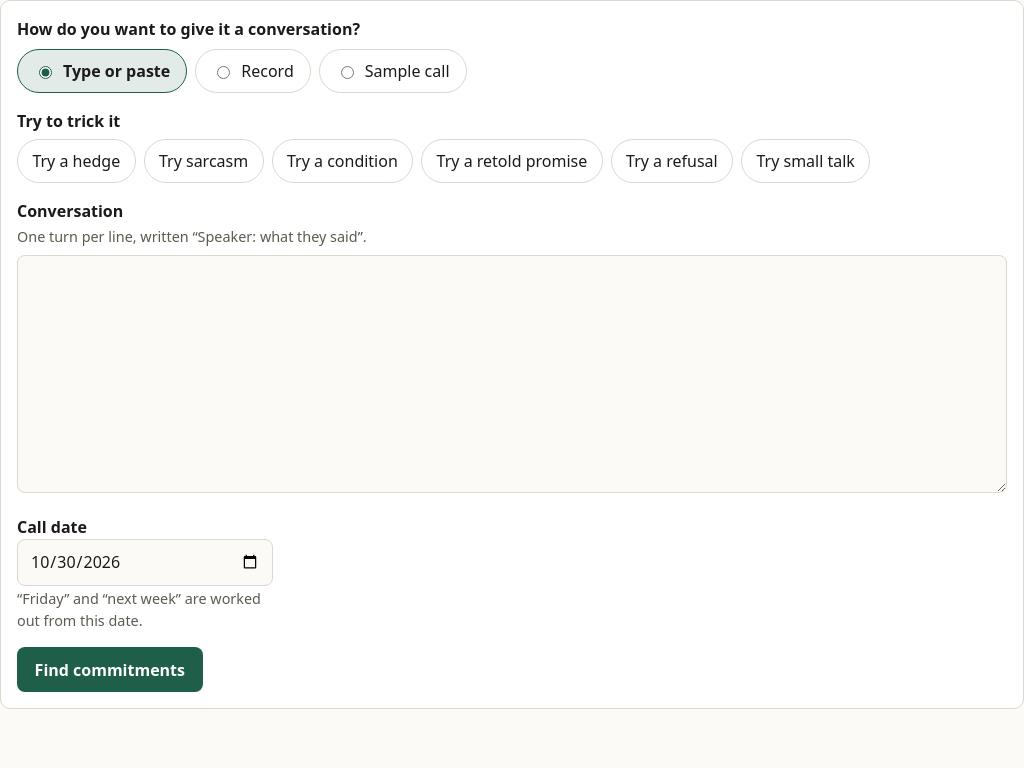
Test: Demo in sample mode › cannot start until a clip is picked
Expected: the date field labelled "Call date" is not empty, [17, 539, 273, 586]
What coordinates should you click on to do the following:
click the radio button labelled "Sample call"
I would click on:
 (347, 72)
Its box is [341, 66, 354, 79].
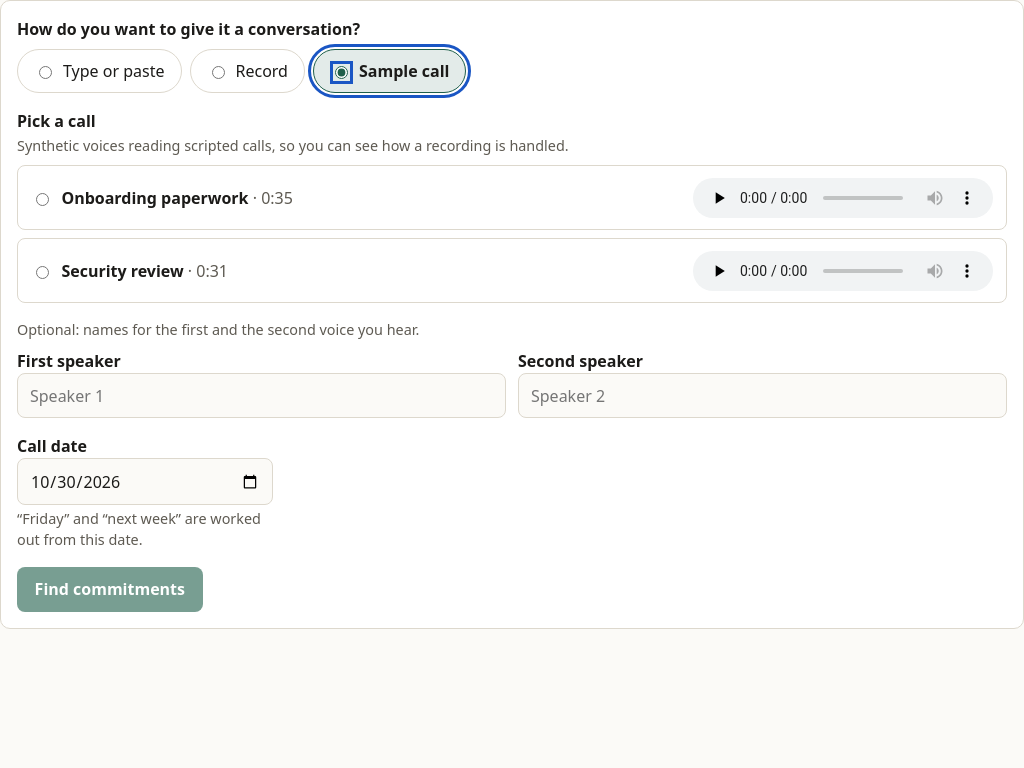
Expected: the radio button labelled "Security review · 0:31" is shown
Expected: the button "Find commitments" is disabled, [17, 567, 203, 612]
What coordinates should you click on to do the following:
click the radio button labelled "Security review · 0:31"
I would click on:
 (42, 272)
Its box is [36, 266, 49, 279].
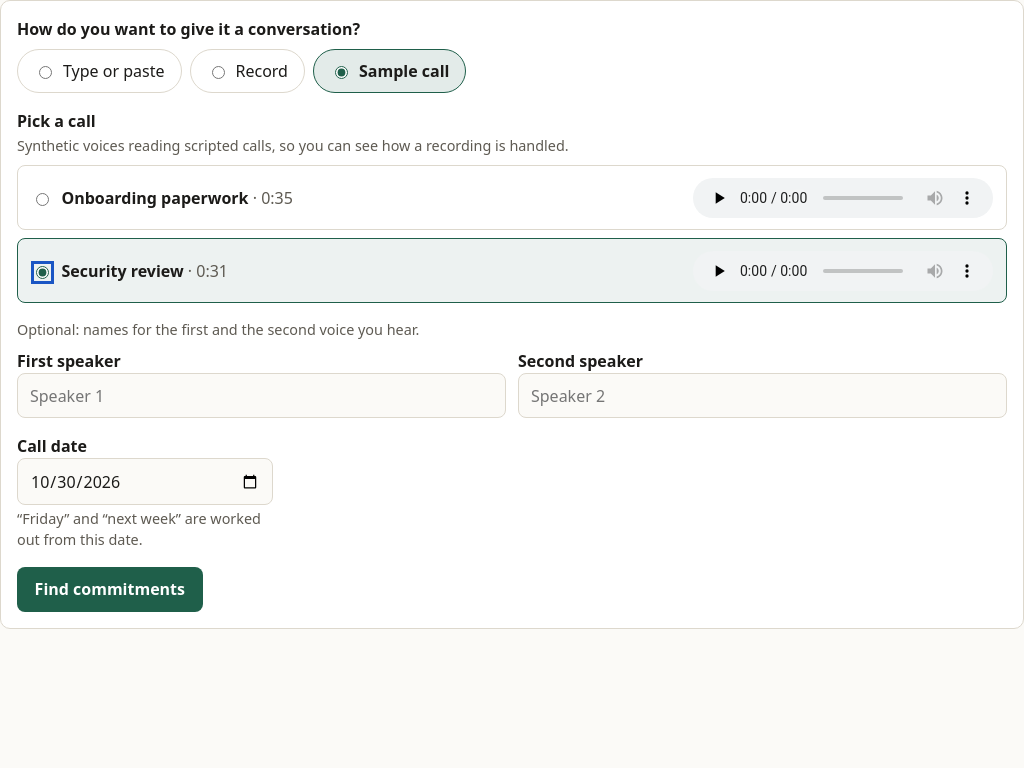
Expected: the button "Find commitments" is enabled, [17, 567, 203, 612]
